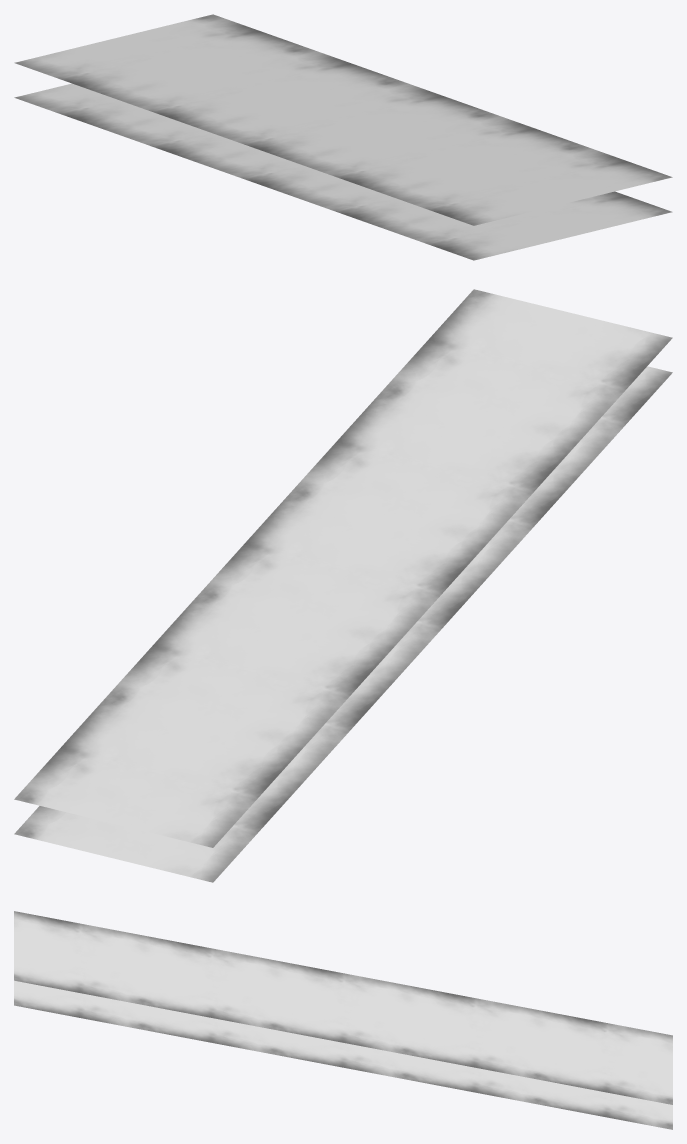
The model's file is CourseWinter_Floor_5.fbx.
The picture shows the model from 3 angles, top to bottom: view 1: azimuth 30°, elevation 25°; view 2: azimuth 150°, elevation 25°; view 3: azimuth 270°, elevation 25°; orthographic projection. The views are drawn at different scales.
Visible parts, largest first — view 1: polySurface653; view 2: polySurface653; view 3: polySurface653.
Boxes of the visible parts, <box> form: polySurface653: <box>14,14,672,260</box>; polySurface653: <box>14,289,672,882</box>; polySurface653: <box>14,911,672,1129</box>.
Bounding box in the file's own units: 6 × 6 × 24.
1 material, 1 textured.
